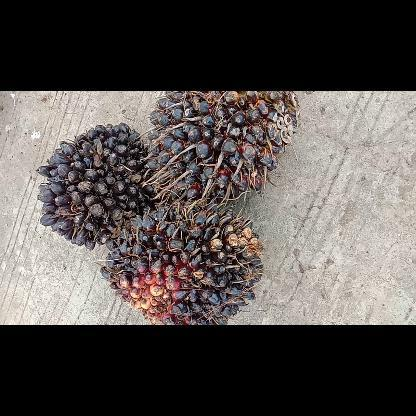TBS mentah: (100, 198, 266, 324), (144, 91, 300, 205), (30, 120, 156, 252)
